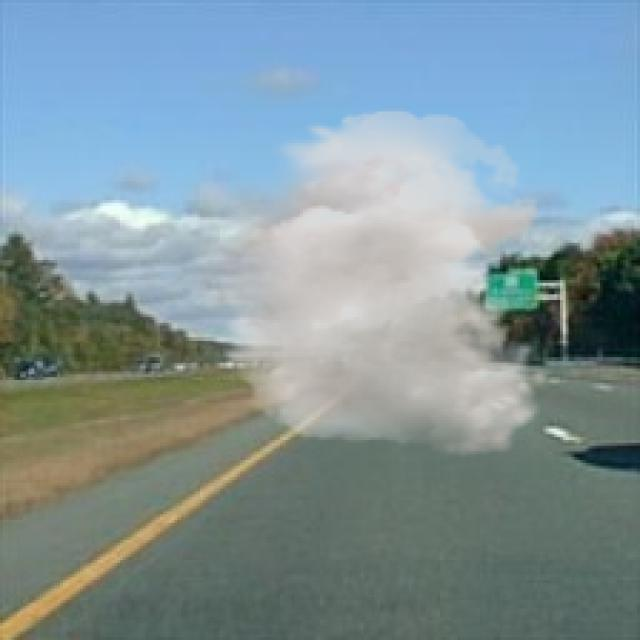Smoke: (174, 109, 552, 458)
